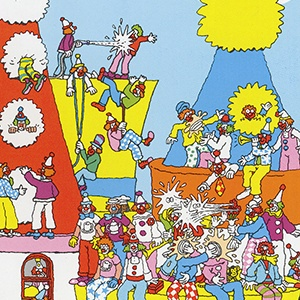Wenda: (246, 127, 278, 173)
